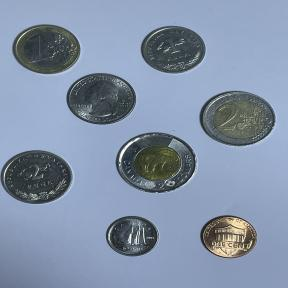coin: (112, 131, 200, 197), (196, 88, 280, 149), (0, 148, 76, 208), (11, 21, 83, 76), (65, 74, 139, 126), (197, 212, 260, 262), (100, 212, 162, 262)
